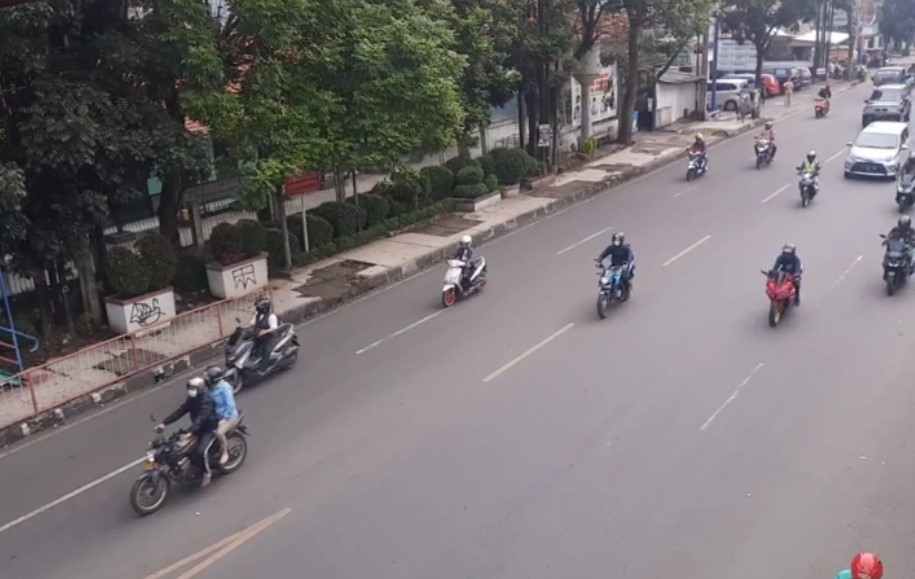motor: (119, 383, 260, 511), (192, 301, 304, 386), (755, 241, 809, 337), (583, 232, 644, 314), (431, 235, 491, 305), (874, 213, 915, 297), (748, 120, 780, 169), (796, 153, 825, 205), (683, 132, 715, 179)
